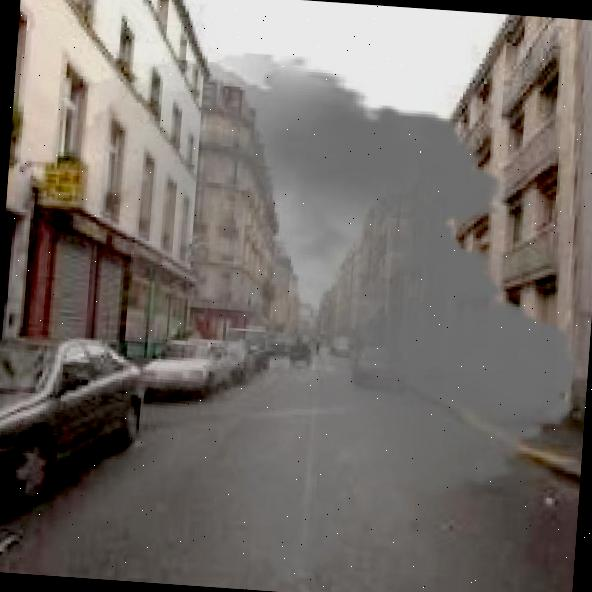smoke: (20, 40, 592, 592)
